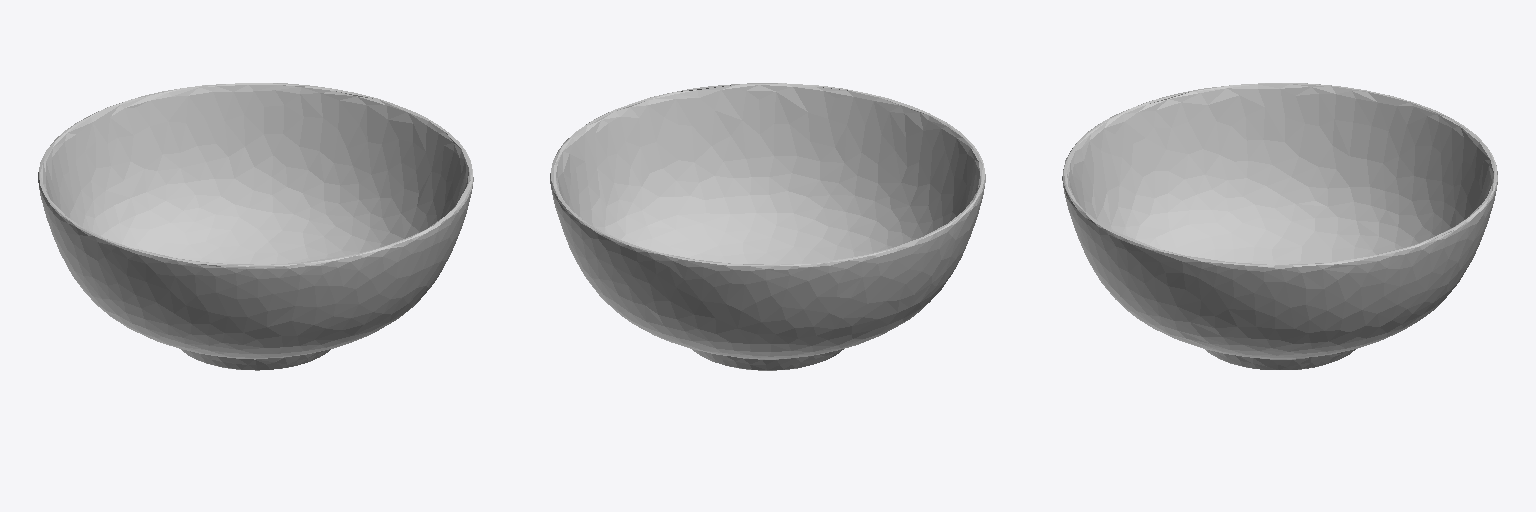
Rendered from bowl.obj.
The picture shows the model from 3 angles: view 1: azimuth 30°, elevation 25°; view 2: azimuth 150°, elevation 25°; view 3: azimuth 270°, elevation 25°; orthographic projection.
Parts seen in each view (by area): view 1: mmGroup0; view 2: mmGroup0; view 3: mmGroup0.
Boxes of the visible parts, <box> form: mmGroup0: <box>38,83,473,370</box>; mmGroup0: <box>550,83,985,370</box>; mmGroup0: <box>1062,83,1497,369</box>.
Bounding box in the file's own units: 0.1925 × 0.0799 × 0.1924.